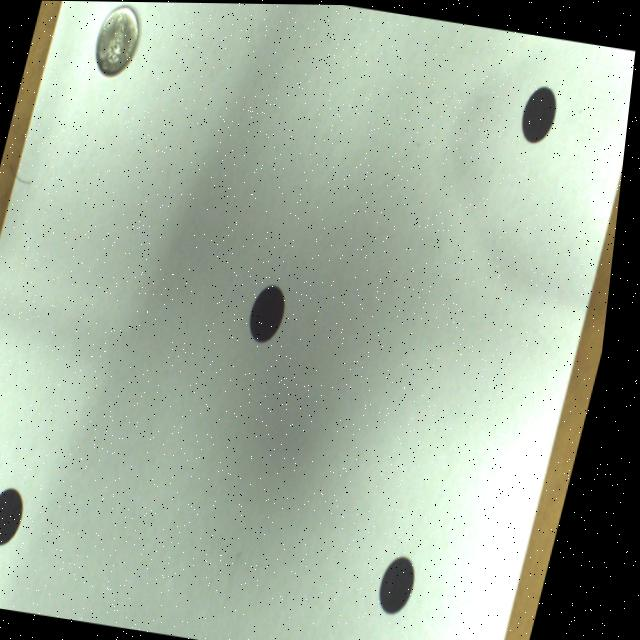space: (0, 487, 35, 546), (524, 85, 559, 141), (393, 555, 428, 611), (257, 285, 292, 341)
tail1bath: (97, 6, 140, 74)
